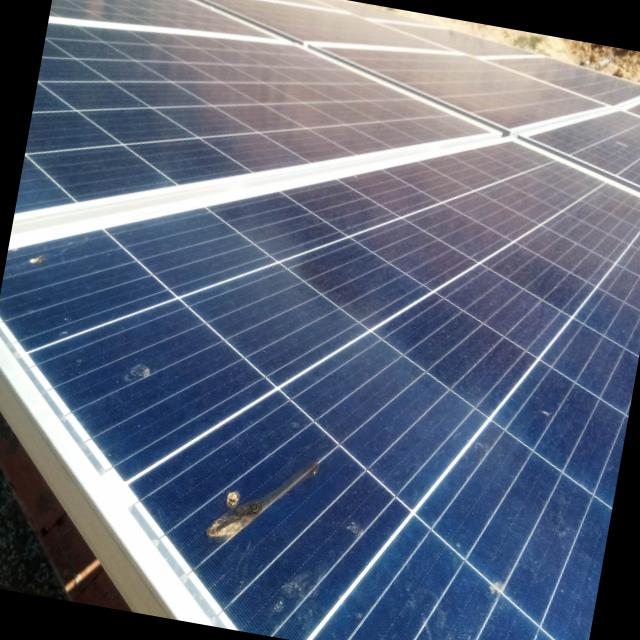faulty: (0, 135, 640, 640), (189, 432, 378, 616), (4, 230, 67, 304), (116, 346, 160, 406)
no faulty: (15, 23, 487, 206)
